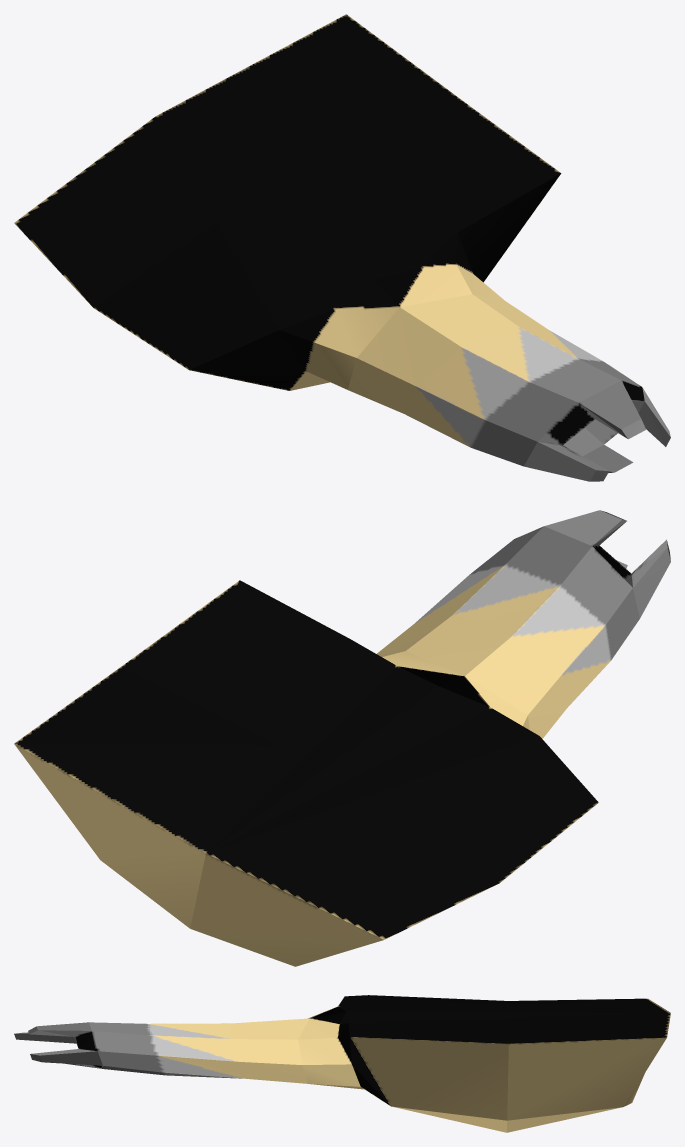
Rendered from weapon 4.FBX.
The picture shows the model from 3 angles, top to bottom: view 1: azimuth 30°, elevation 25°; view 2: azimuth 150°, elevation 25°; view 3: azimuth 270°, elevation 25°; orthographic projection. The views are drawn at different scales.
Visible parts, largest first — view 1: Box001; view 2: Box001; view 3: Box001.
Boxes of the visible parts, x1,y1,x2,y2 form: Box001: [14, 14, 670, 481]; Box001: [14, 510, 670, 966]; Box001: [14, 995, 670, 1132].
Size of the model in its own units: 26.86 by 13.73 by 57.1.
1 material, 1 textured.
